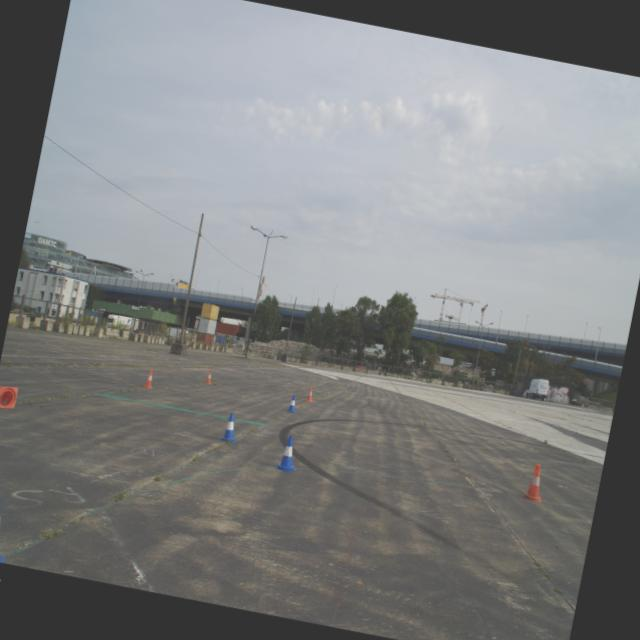blue_cone: (0, 488, 17, 563), (274, 434, 302, 474), (220, 412, 242, 444), (286, 394, 300, 414)
orange_cone: (523, 463, 548, 503), (0, 384, 18, 411), (142, 368, 156, 389), (304, 386, 316, 403), (205, 370, 214, 384)
